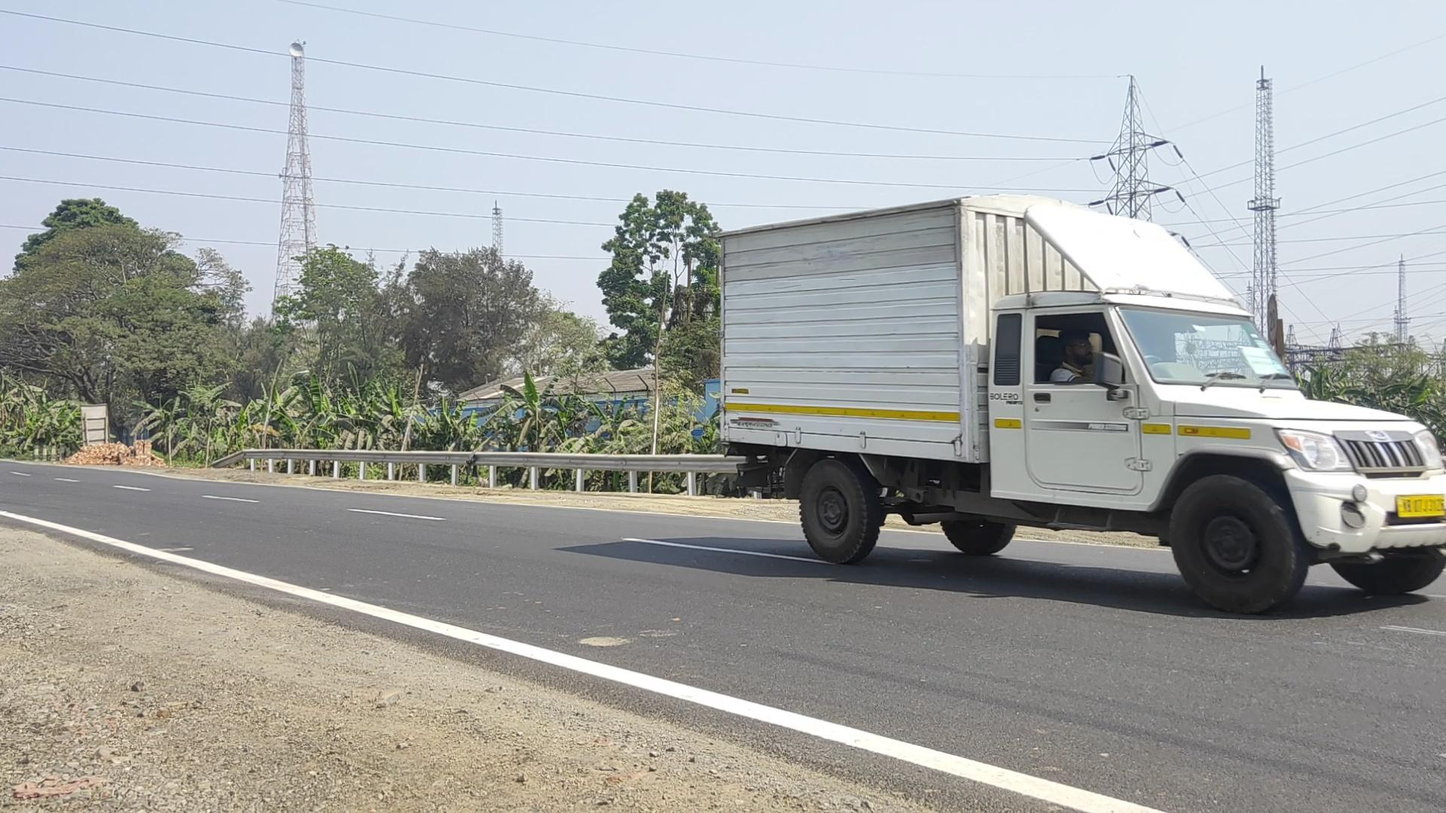van: (706, 192, 1446, 614)
